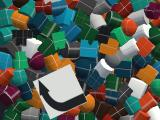Right: (33, 64, 87, 120)
